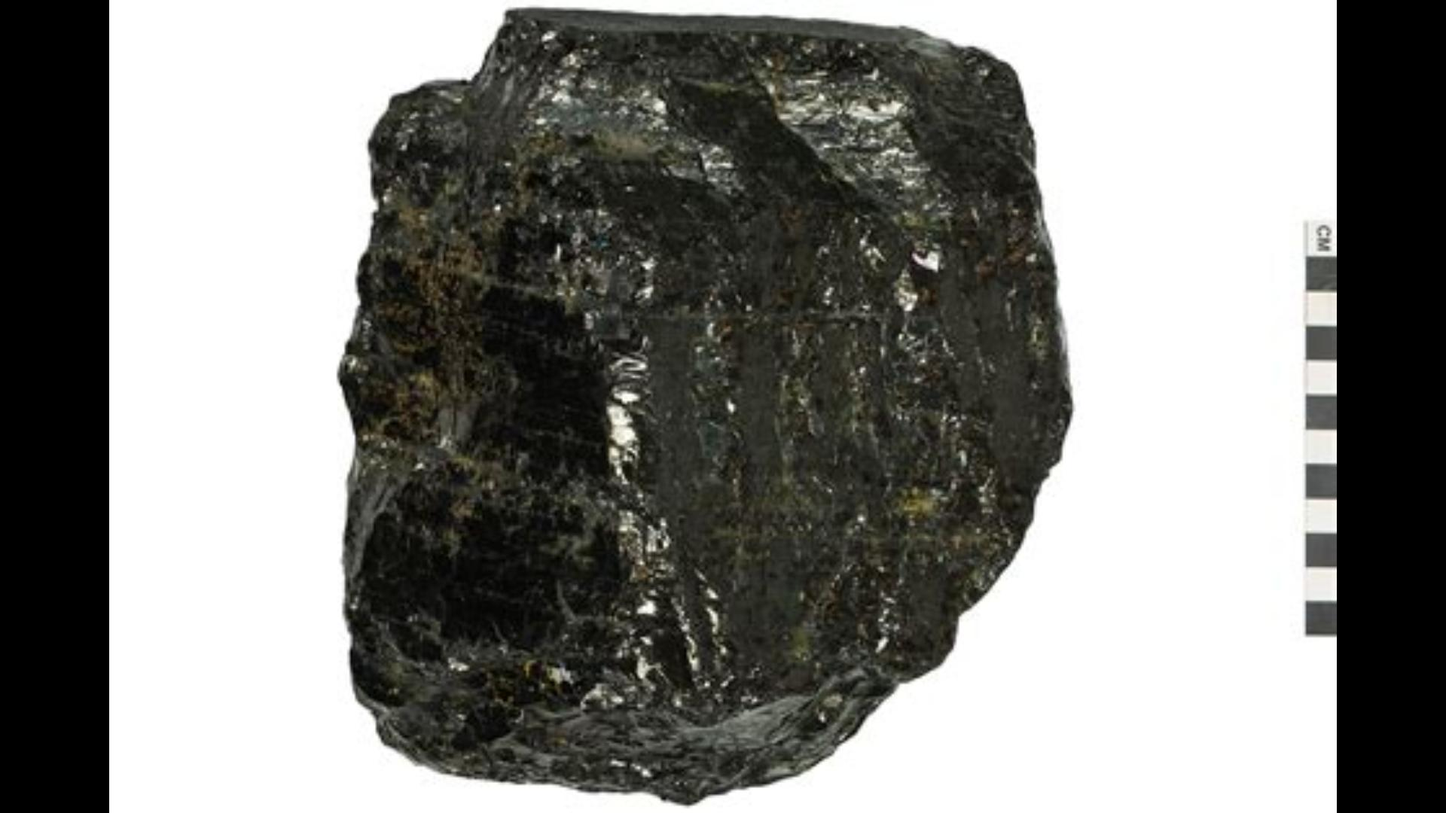rock: (342, 10, 1065, 800)
